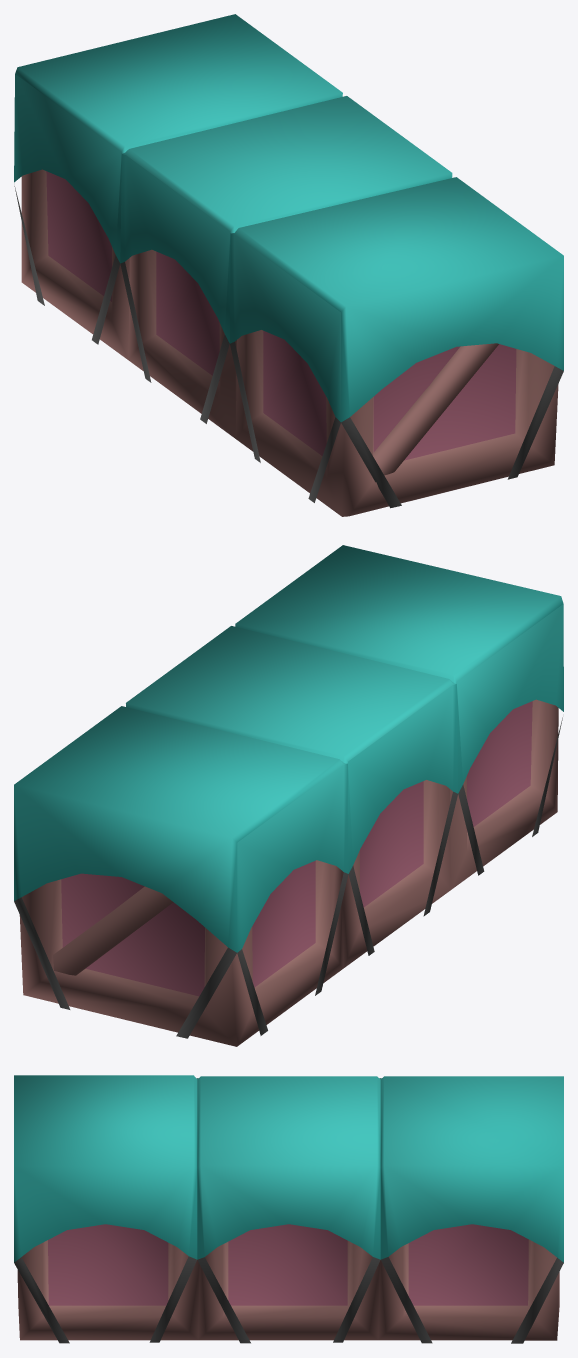
The model's file is obstacle-crate_platform_H1.glb.
3 views of the same model, one above another, from view 1: azimuth 30°, elevation 25°; view 2: azimuth 150°, elevation 25°; view 3: azimuth 270°, elevation 25° (orthographic). The views are drawn at different scales.
Parts seen in each view (by area): view 1: obstacle-crate_platform_H1; view 2: obstacle-crate_platform_H1; view 3: obstacle-crate_platform_H1.
Boxes of the visible parts, x1,y1,x2,y2 form: obstacle-crate_platform_H1: (14,14,563,516); obstacle-crate_platform_H1: (14,545,563,1046); obstacle-crate_platform_H1: (14,1075,563,1343).
Bounding box in the file's own units: 2.37 × 2.17 × 6.
